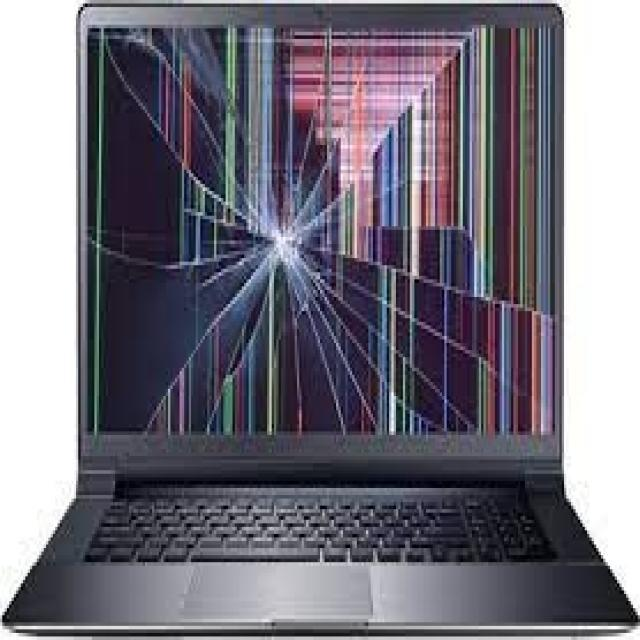Screen cracks: (83, 28, 562, 453)
